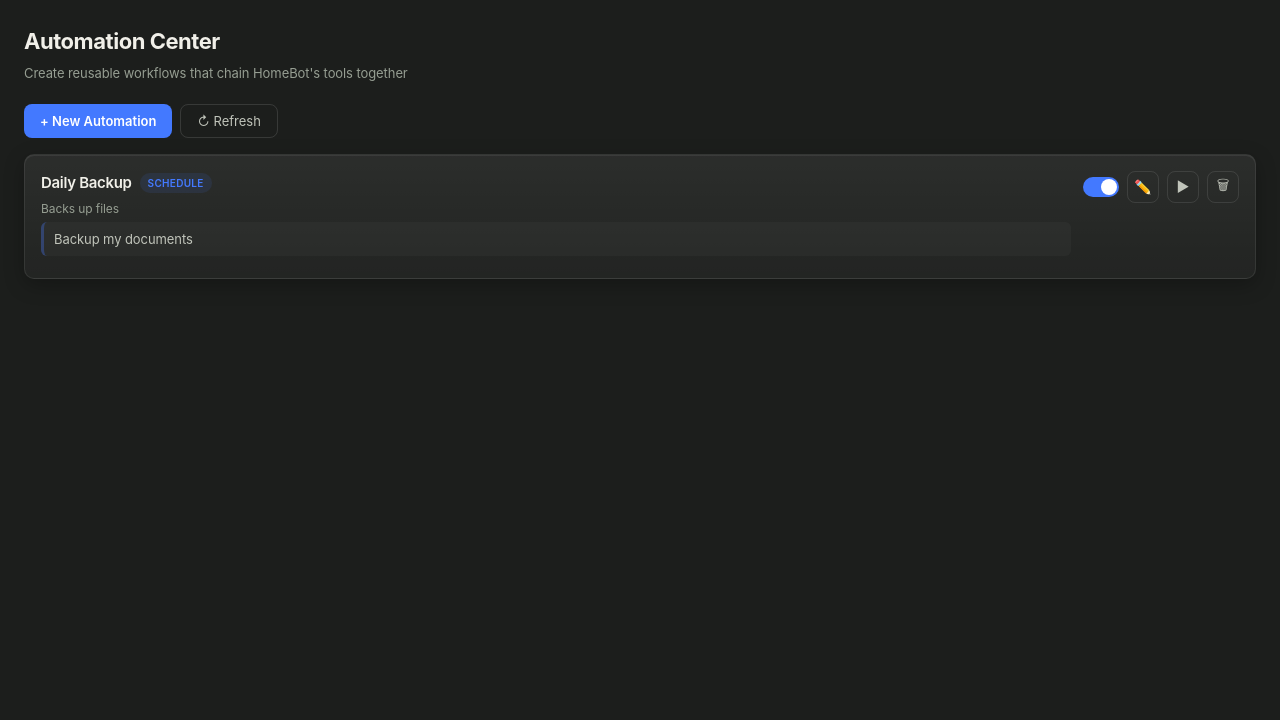
Test: AutomationCenter — automation controls › delete asks before removing anything
Click the button titled "Delete" at (1223, 187), box 1207,171 -> 1239,203
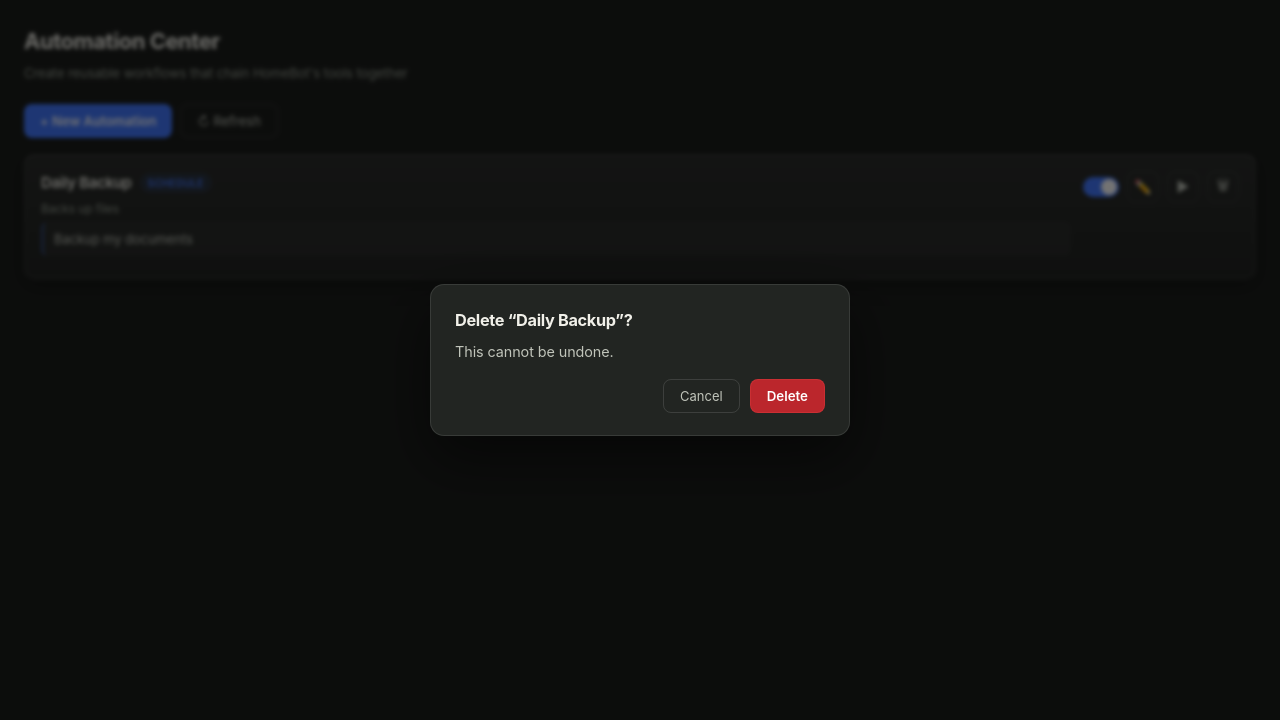
Expected: the heading "Daily Backup" is shown, 41,171 -> 132,195
Expected: the dialog is shown, 430,284 -> 850,436
